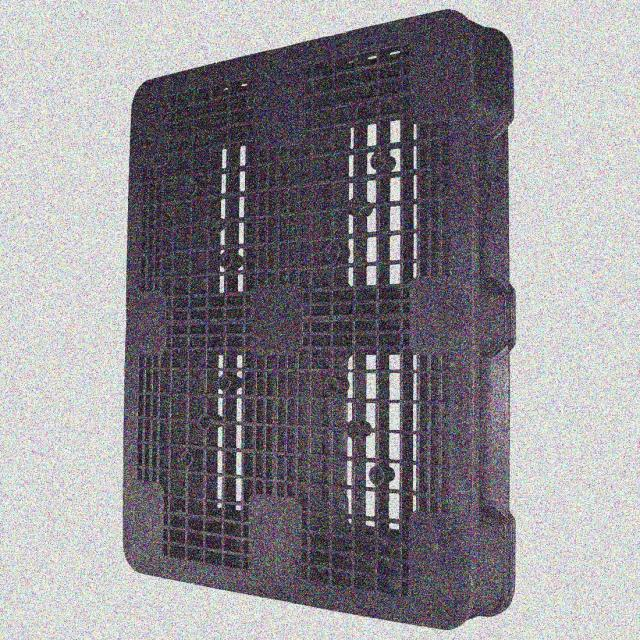non-igps: (110, 0, 523, 634)
